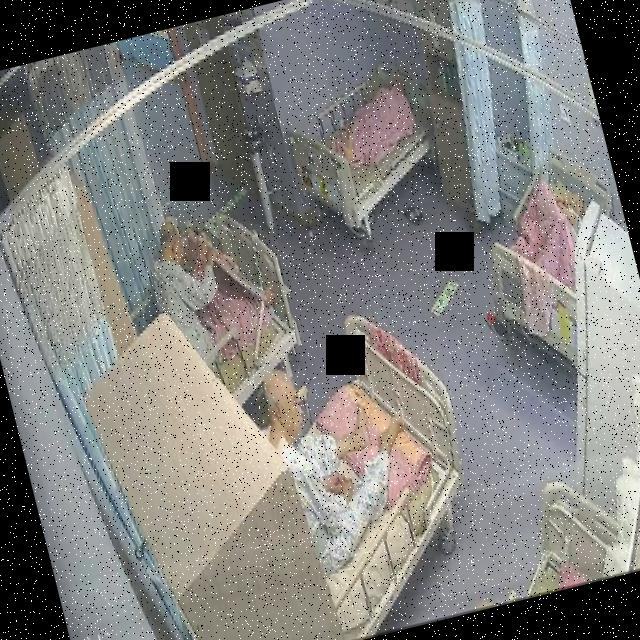bed: (237, 300, 502, 640), (461, 138, 640, 380), (138, 210, 310, 420), (277, 52, 453, 240)
patient: (253, 349, 432, 582), (134, 197, 287, 378)
sit: (252, 346, 433, 580), (134, 197, 288, 375)
